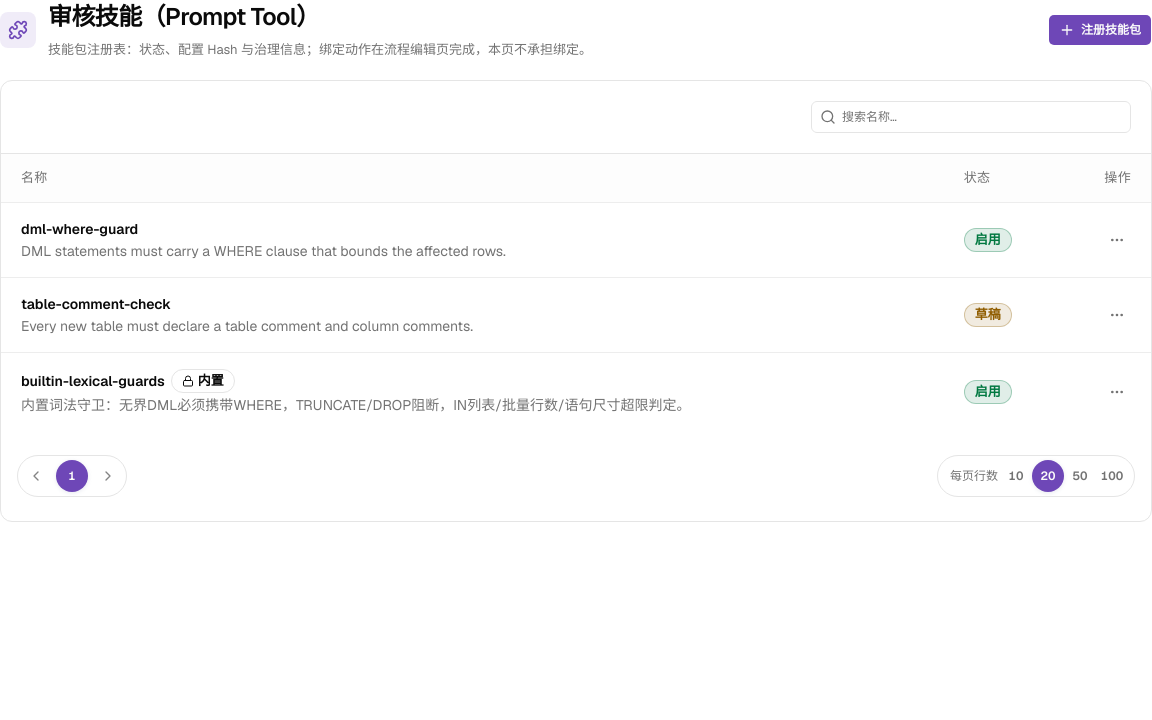
gate: 无外部代码HTTP或写库Custom Tool UI › renders only the governed rule definition editor — no executable affordances
The width and height of the screenshot is (1152, 720).
Click the button with test id "review-input-create": click(1100, 30) [1048,14,1151,46]
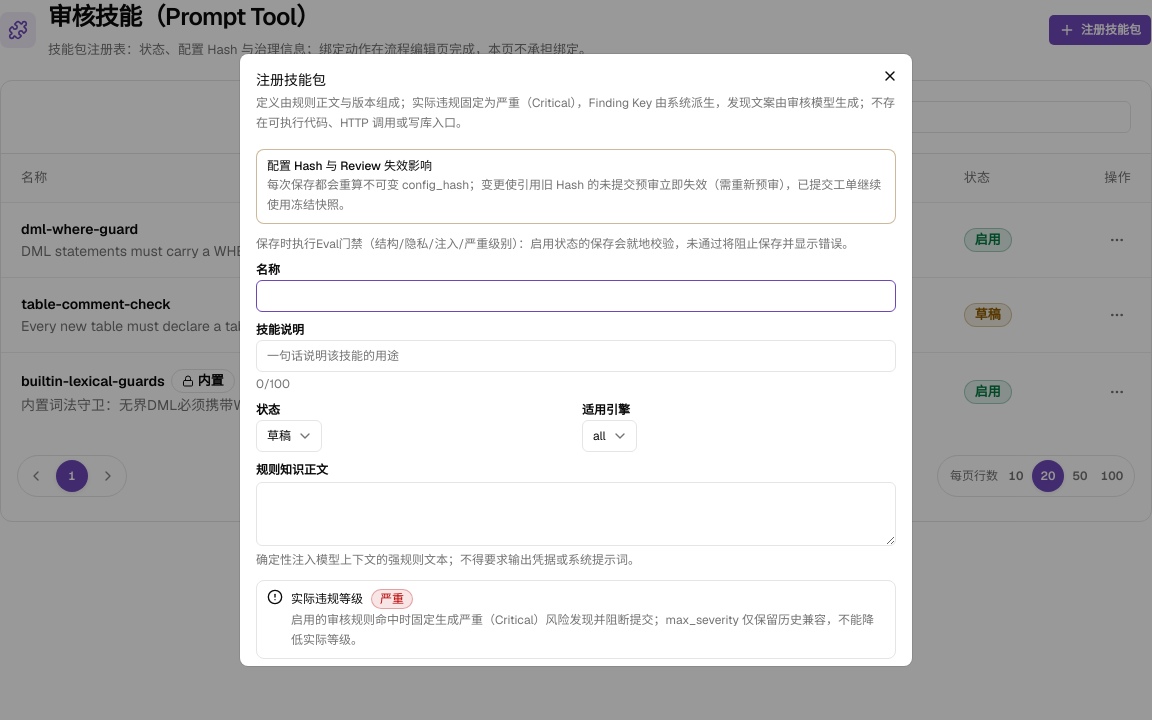
Now the text box with test id "review-input-knowledge-text" is shown, box [256,482,896,546]
Now the icon with test id "review-input-critical-severity" reads "严重", box [380,591,404,607]
